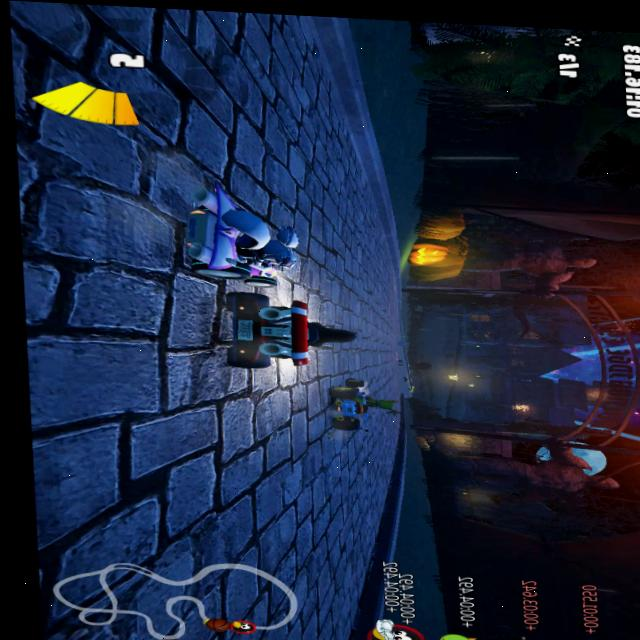enemy_kart: (189, 191, 304, 290), (331, 376, 394, 440)
player_kart: (207, 288, 350, 373)
track: (0, 0, 231, 640), (198, 15, 376, 298), (222, 375, 363, 640), (339, 379, 392, 509), (347, 296, 410, 349), (368, 209, 397, 296), (392, 350, 417, 395), (357, 509, 380, 538), (393, 395, 406, 418)
